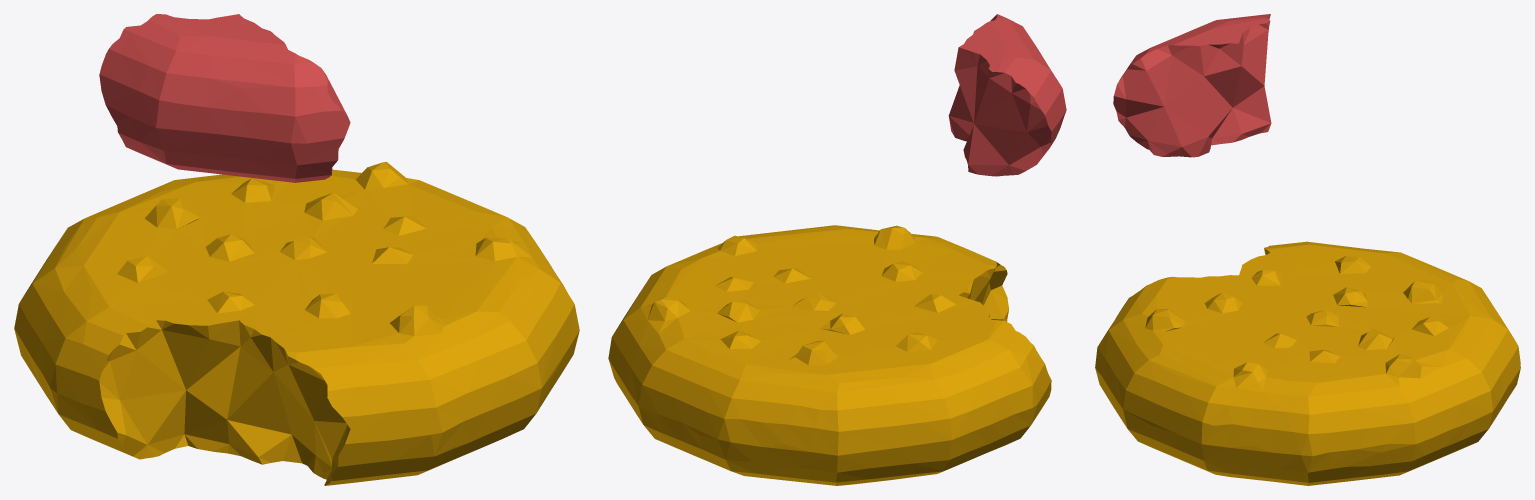
File: fractured_66_2pcs_transformed.glb
3 renders of one model, left to right at view 1: azimuth 30°, elevation 25°; view 2: azimuth 150°, elevation 25°; view 3: azimuth 270°, elevation 25°, orthographic. The views are drawn at different scales.
Visible parts, largest first — view 1: piece_0.obj, piece_1.obj; view 2: piece_0.obj, piece_1.obj; view 3: piece_0.obj, piece_1.obj.
Boxes of the visible parts, left/top/right/bottom form: piece_0.obj: left=14, top=161, right=579, bottom=485; piece_1.obj: left=99, top=14, right=350, bottom=182; piece_0.obj: left=608, top=225, right=1051, bottom=485; piece_1.obj: left=948, top=14, right=1066, bottom=176; piece_0.obj: left=1095, top=241, right=1520, bottom=485; piece_1.obj: left=1113, top=14, right=1271, bottom=157.
Size of the model in its own units: 1 by 0.859 by 0.9992.
